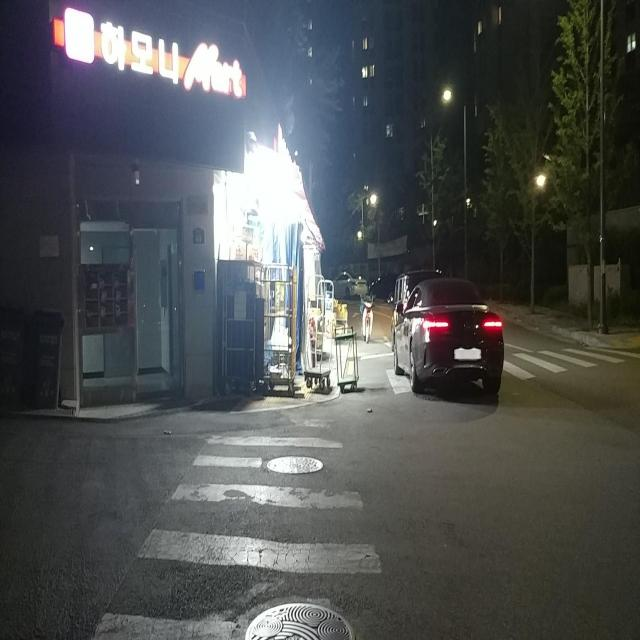횡단보도: (92, 431, 384, 640), (394, 346, 639, 397)
